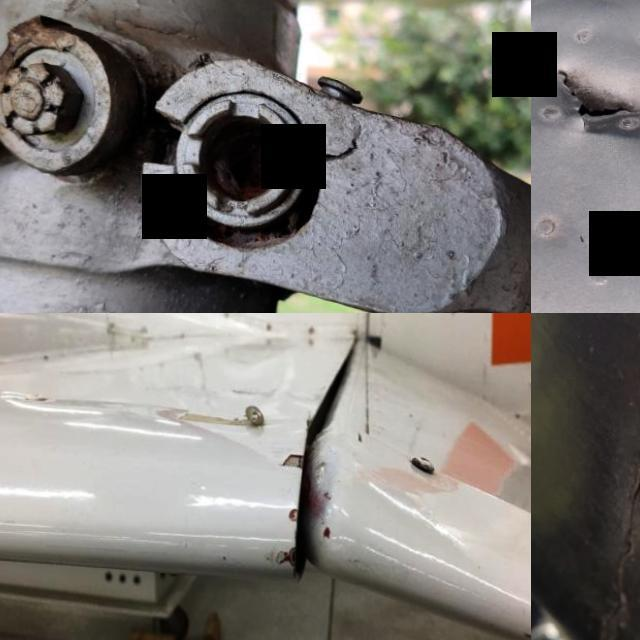Crack: (543, 346, 640, 640), (534, 27, 640, 157), (250, 432, 314, 578), (314, 115, 364, 162), (511, 597, 531, 640)
